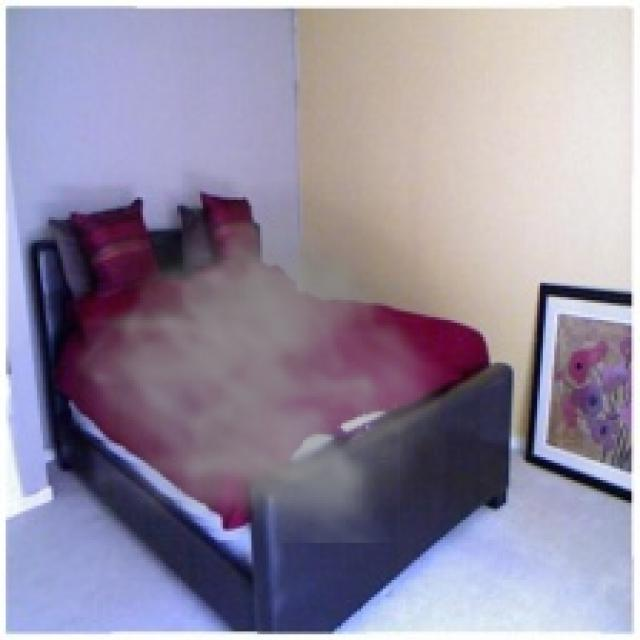smoke: (57, 180, 463, 543)
